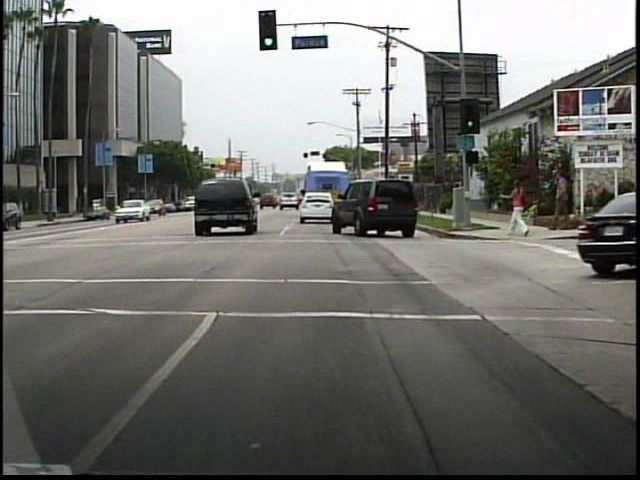person: (503, 174, 534, 244), (544, 167, 574, 231)
